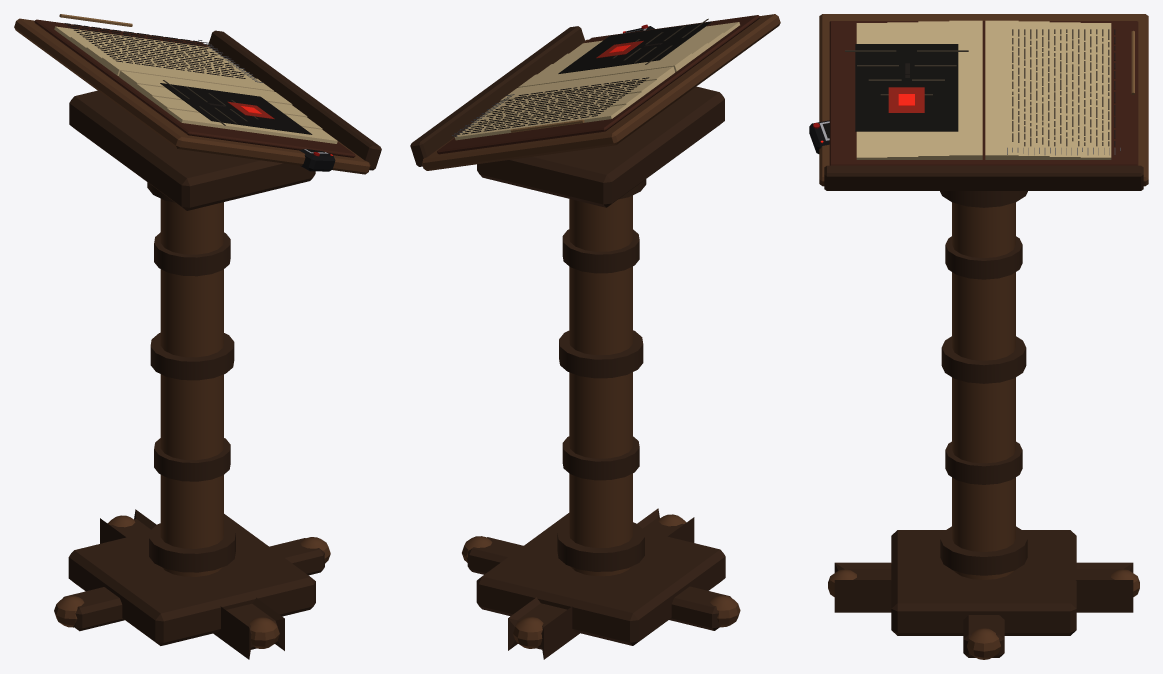
Rendered from lore_lectern.glb.
3 views of the same model, side by side, from view 1: azimuth 30°, elevation 25°; view 2: azimuth 150°, elevation 25°; view 3: azimuth 270°, elevation 25° (orthographic).
Parts seen in each view (by area): view 1: teil0, teil1, teil5, teil2, teil3, teil4, teil6, teil8, teil12; view 2: teil0, teil1, teil5, teil2, teil3, teil4, teil6, teil8; view 3: teil0, teil5, teil1, teil4, teil2, teil8, teil3, teil6, teil10, teil9.
Part boxes in pixels (x1,y1,x2,y2): teil0: [62, 30, 381, 659]; teil1: [54, 199, 330, 648]; teil5: [54, 26, 337, 143]; teil2: [147, 182, 235, 572]; teil3: [14, 18, 370, 174]; teil4: [34, 19, 355, 157]; teil6: [64, 23, 245, 107]; teil8: [160, 83, 324, 152]; teil12: [299, 149, 335, 171]; teil0: [410, 26, 731, 659]; teil1: [462, 195, 740, 648]; teil5: [454, 22, 739, 140]; teil2: [557, 179, 646, 571]; teil3: [421, 14, 780, 170]; teil4: [437, 15, 759, 154]; teil6: [462, 43, 662, 134]; teil8: [558, 22, 711, 73]; teil0: [824, 165, 1143, 657]; teil5: [856, 20, 1111, 159]; teil1: [828, 202, 1139, 659]; teil4: [829, 21, 1138, 165]; teil2: [940, 191, 1027, 575]; teil8: [822, 44, 958, 138]; teil3: [819, 14, 1148, 186]; teil6: [905, 29, 1115, 146]; teil10: [888, 87, 924, 112]; teil9: [845, 50, 968, 95].
Size of the model in its own units: 0.61 by 1.17 by 0.6594.
